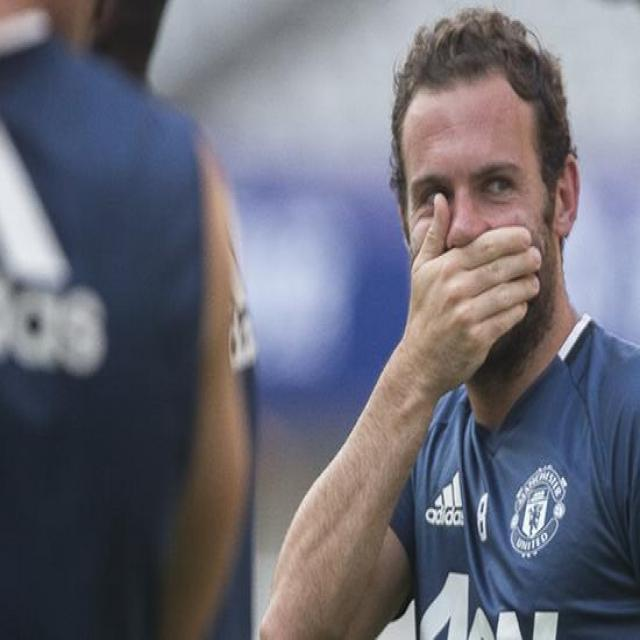nomask: (409, 88, 550, 346)
